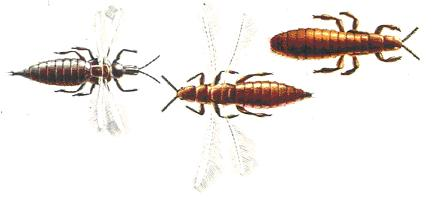Thrips: (160, 44, 316, 178), (10, 1, 152, 148), (278, 7, 423, 80)
